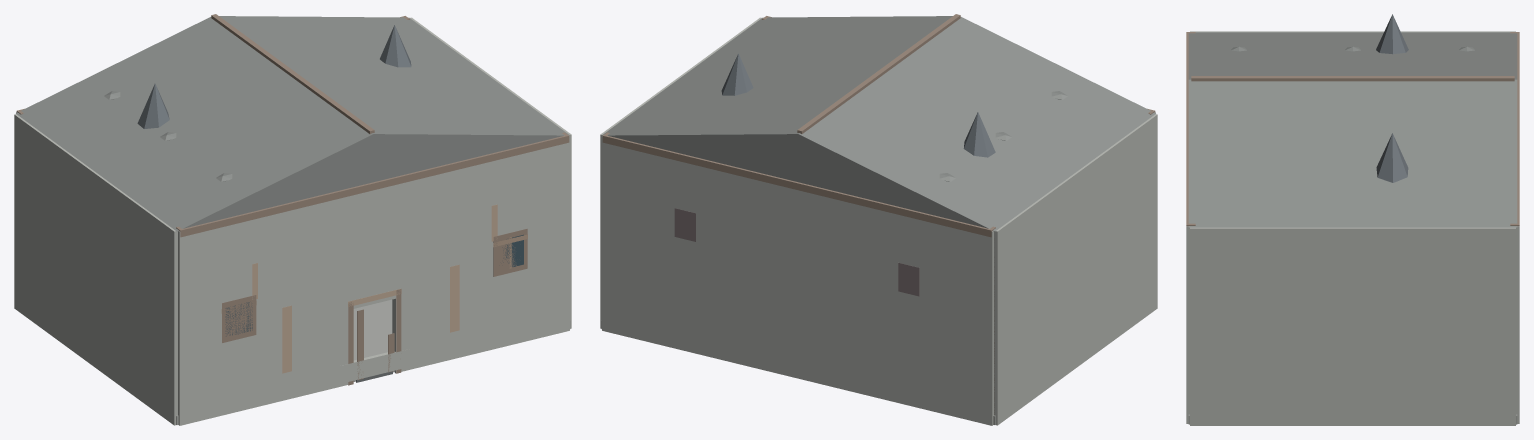
Rendered from burgomaster_manor_abandoned.glb.
The picture shows the model from 3 angles, left to right: view 1: azimuth 30°, elevation 25°; view 2: azimuth 150°, elevation 25°; view 3: azimuth 270°, elevation 25°; orthographic projection.
Visible parts, largest first — view 1: burgomaster_manor_mat_01, burgomaster_manor_mat_08, burgomaster_manor_mat_02, burgomaster_manor_mat_03, burgomaster_manor_mat_00, burgomaster_manor_mat_09, burgomaster_manor_mat_05; view 2: burgomaster_manor_mat_01, burgomaster_manor_mat_08, burgomaster_manor_mat_02, burgomaster_manor_mat_09, burgomaster_manor_mat_07; view 3: burgomaster_manor_mat_01, burgomaster_manor_mat_08, burgomaster_manor_mat_02, burgomaster_manor_mat_09.
Part boxes in pixels (bbox=[...]): burgomaster_manor_mat_01: bbox=[14, 17, 571, 425]; burgomaster_manor_mat_08: bbox=[16, 16, 569, 231]; burgomaster_manor_mat_02: bbox=[16, 14, 569, 385]; burgomaster_manor_mat_03: bbox=[252, 204, 497, 373]; burgomaster_manor_mat_00: bbox=[176, 299, 570, 424]; burgomaster_manor_mat_09: bbox=[137, 25, 411, 128]; burgomaster_manor_mat_05: bbox=[225, 234, 523, 336]; burgomaster_manor_mat_01: bbox=[600, 17, 1157, 425]; burgomaster_manor_mat_08: bbox=[602, 16, 1155, 231]; burgomaster_manor_mat_02: bbox=[602, 14, 1155, 414]; burgomaster_manor_mat_09: bbox=[721, 53, 995, 157]; burgomaster_manor_mat_07: bbox=[674, 208, 919, 296]; burgomaster_manor_mat_01: bbox=[1186, 31, 1519, 425]; burgomaster_manor_mat_08: bbox=[1188, 32, 1517, 227]; burgomaster_manor_mat_02: bbox=[1186, 32, 1519, 226]; burgomaster_manor_mat_09: bbox=[1376, 14, 1408, 182].
Bounding box in the file's own units: 6.97 × 4.2 × 4.98.
